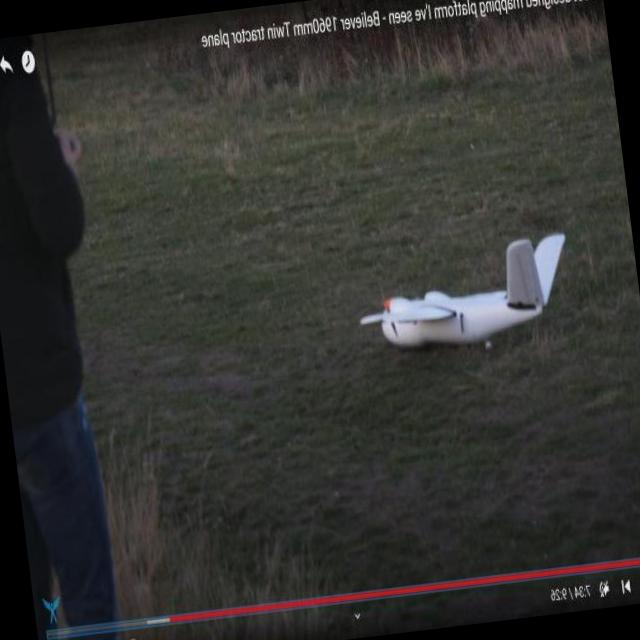UAV: (336, 206, 582, 377)
